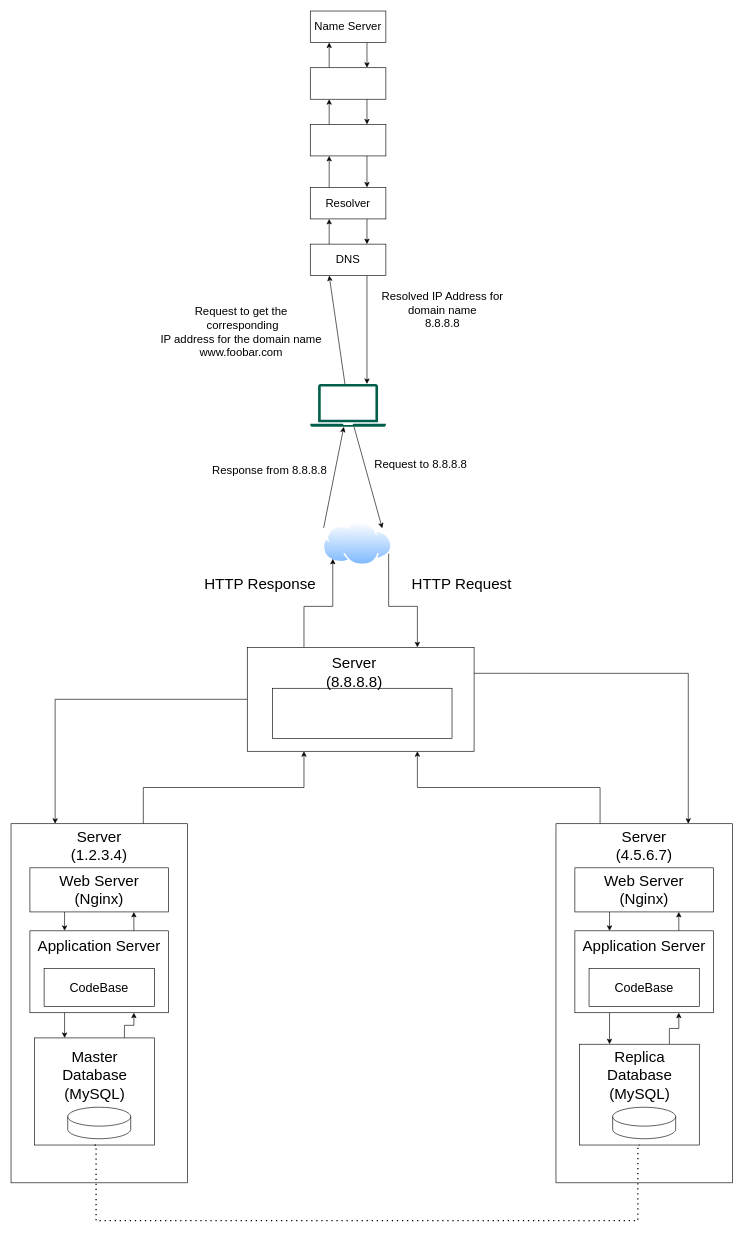
The diagram is 743 pixels wide and 1233 high, and some of its shapes have lost their labels. The shapes that lost their labels are listed below. From the top down, each one's box as (x1, y1, x2, y2) in pixels, then its label:
(310, 67, 386, 99): Top Level Domain
(310, 124, 386, 156): Root
(323, 521, 392, 565): Internet
(272, 688, 452, 739): Load Balancer (HAProxy)
